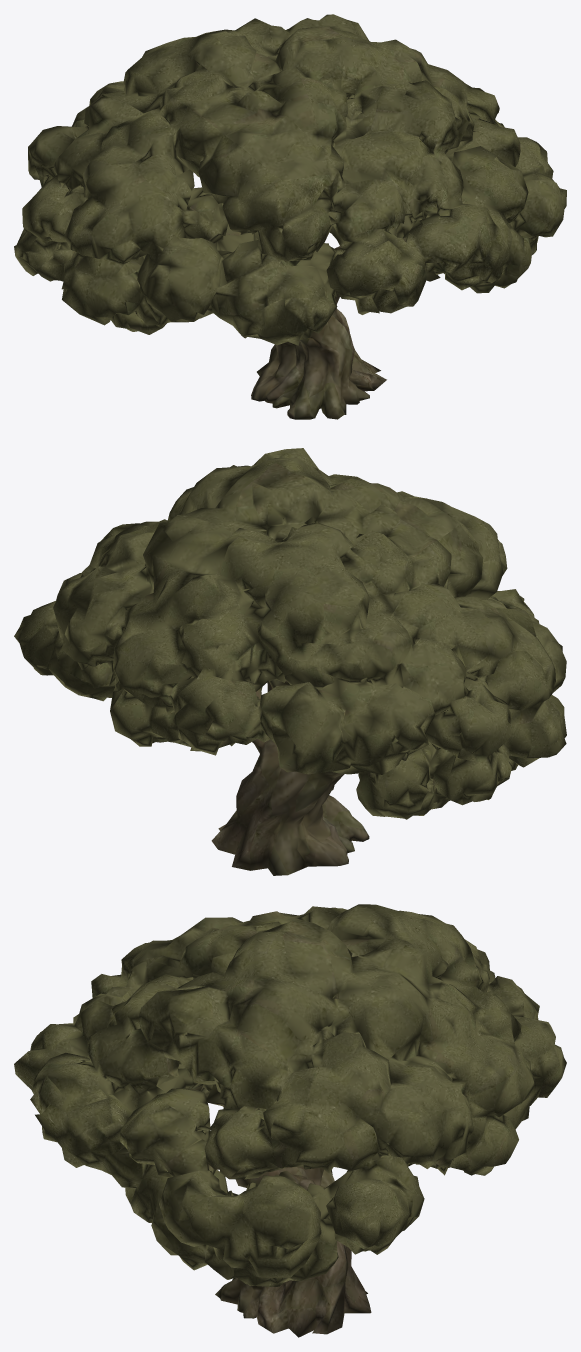
The model's file is encina_alto.glb.
The picture shows the model from 3 angles, top to bottom: view 1: azimuth 30°, elevation 25°; view 2: azimuth 150°, elevation 25°; view 3: azimuth 270°, elevation 25°; orthographic projection. The views are drawn at different scales.
Visible parts, largest first — view 1: alto; view 2: alto; view 3: alto.
Boxes of the visible parts, bbox=[...] form: alto: bbox=[14, 14, 566, 419]; alto: bbox=[14, 448, 566, 875]; alto: bbox=[14, 904, 566, 1337].
Bounding box in the file's own units: 7.8 × 5.48 × 7.28.
1 material, 1 textured.
